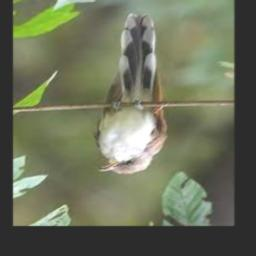Cuckoo: (93, 12, 167, 174)
